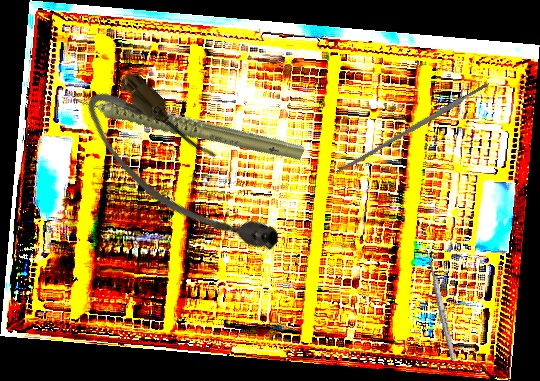Cannula: (70, 62, 294, 285)
Handpiece: (65, 38, 307, 207)
Scalpel Handle: (335, 81, 491, 176)
Surgical Spoon: (423, 245, 458, 362)
